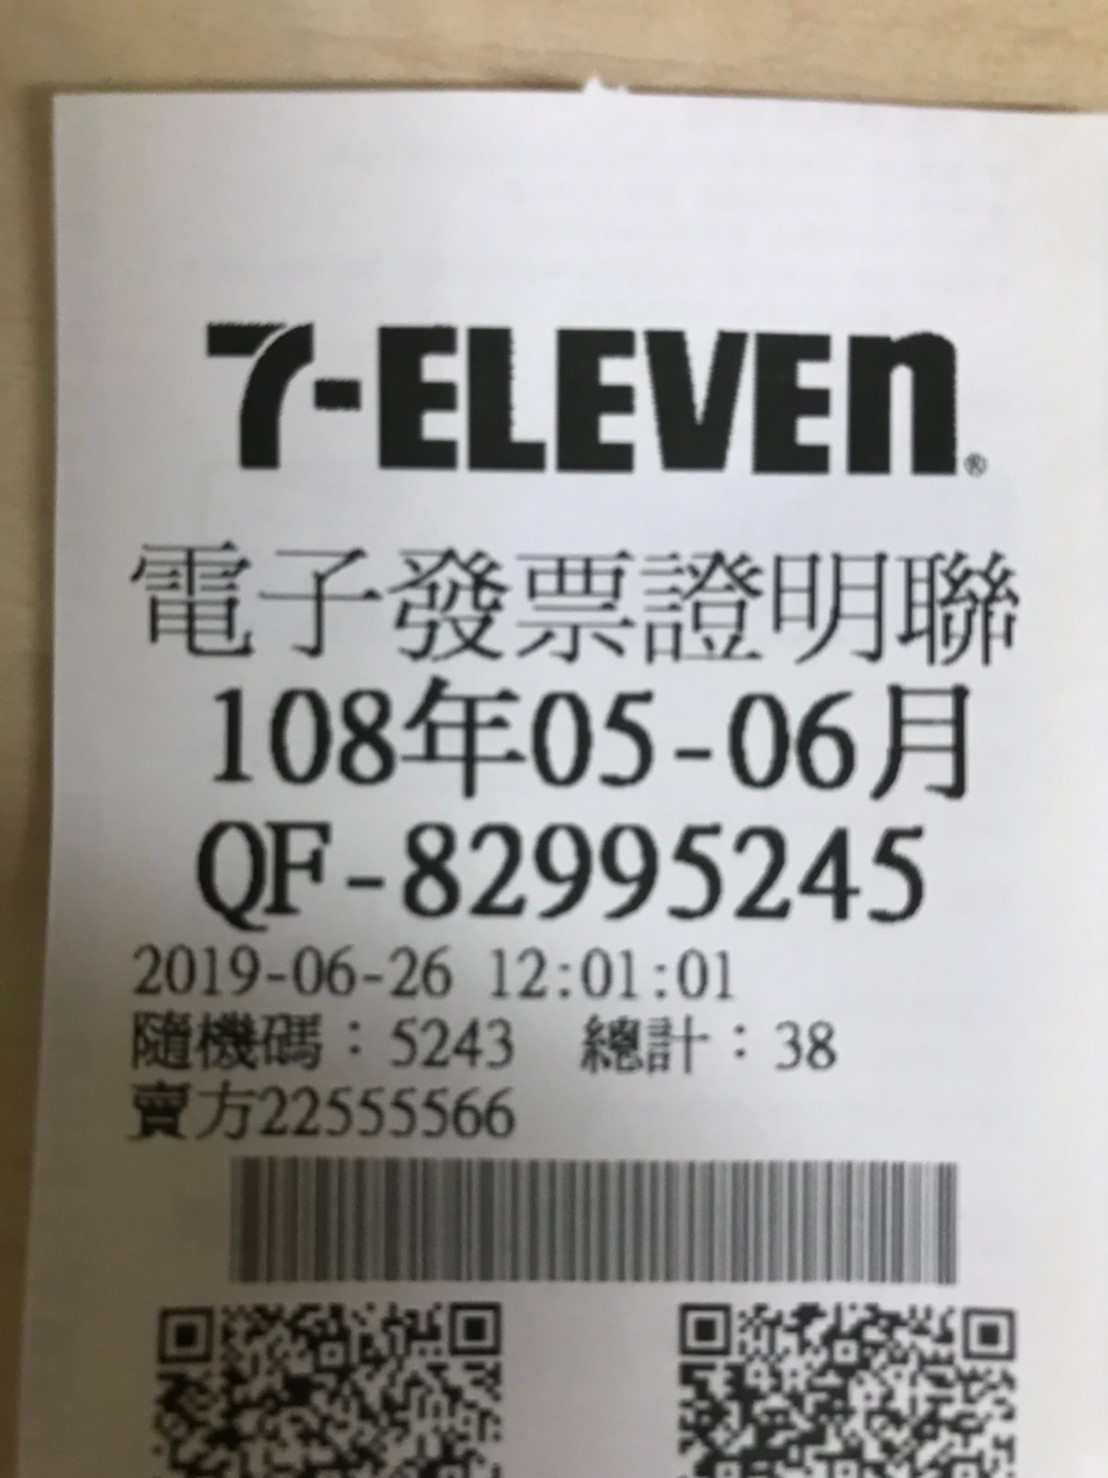Date_New: (207, 678, 970, 806)
Number_New: (399, 806, 928, 928)
